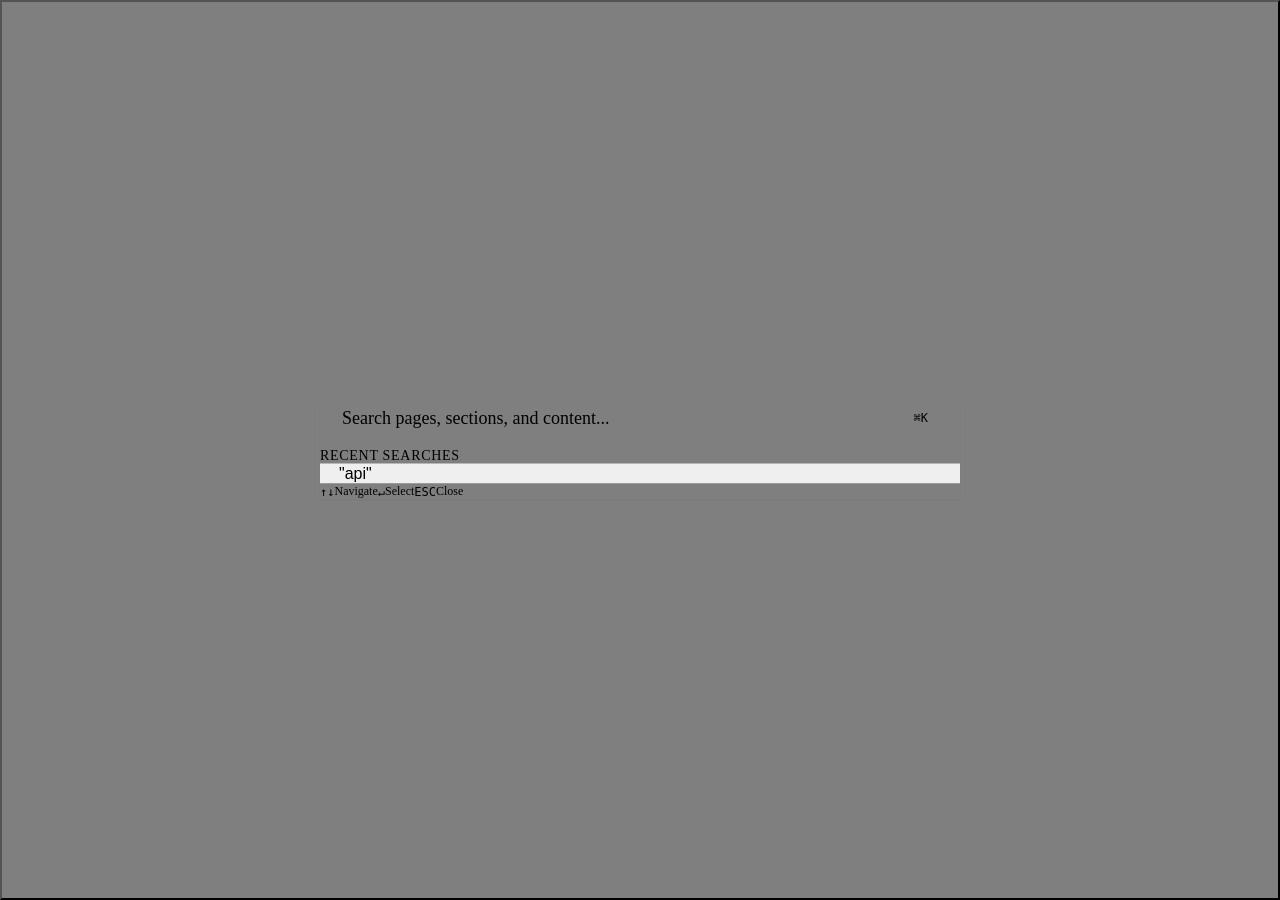
SearchModal › Empty State › clicking recent search fills the input
expect the text "\"api\"" is shown: met, box [339,464,372,482]
Click the button "\"api\"".
click(342, 473)  # box [320,464,960,484]
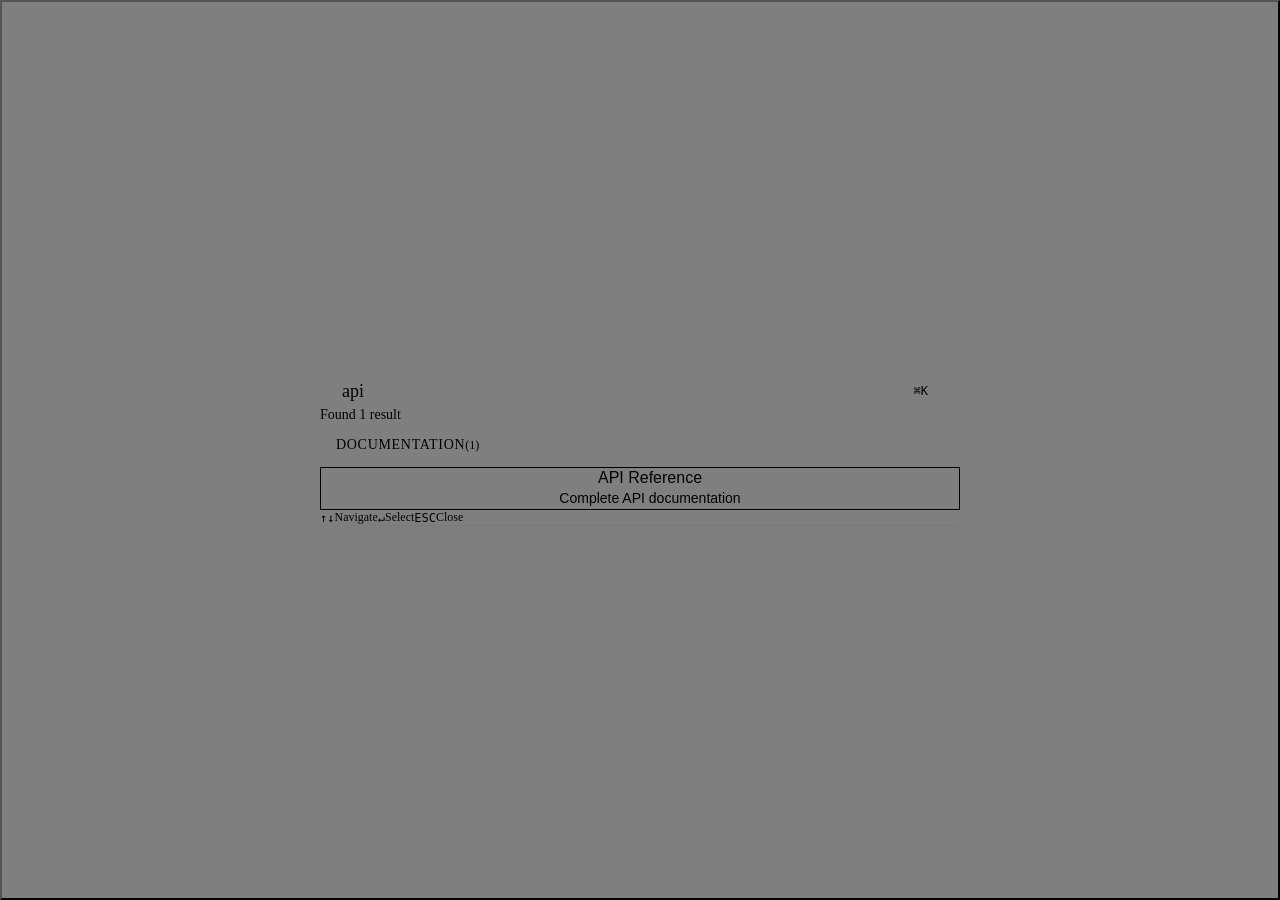
expect the search field with placeholder "Search pages, sections, and content..." holds "api": met, box [340,380,914,402]
